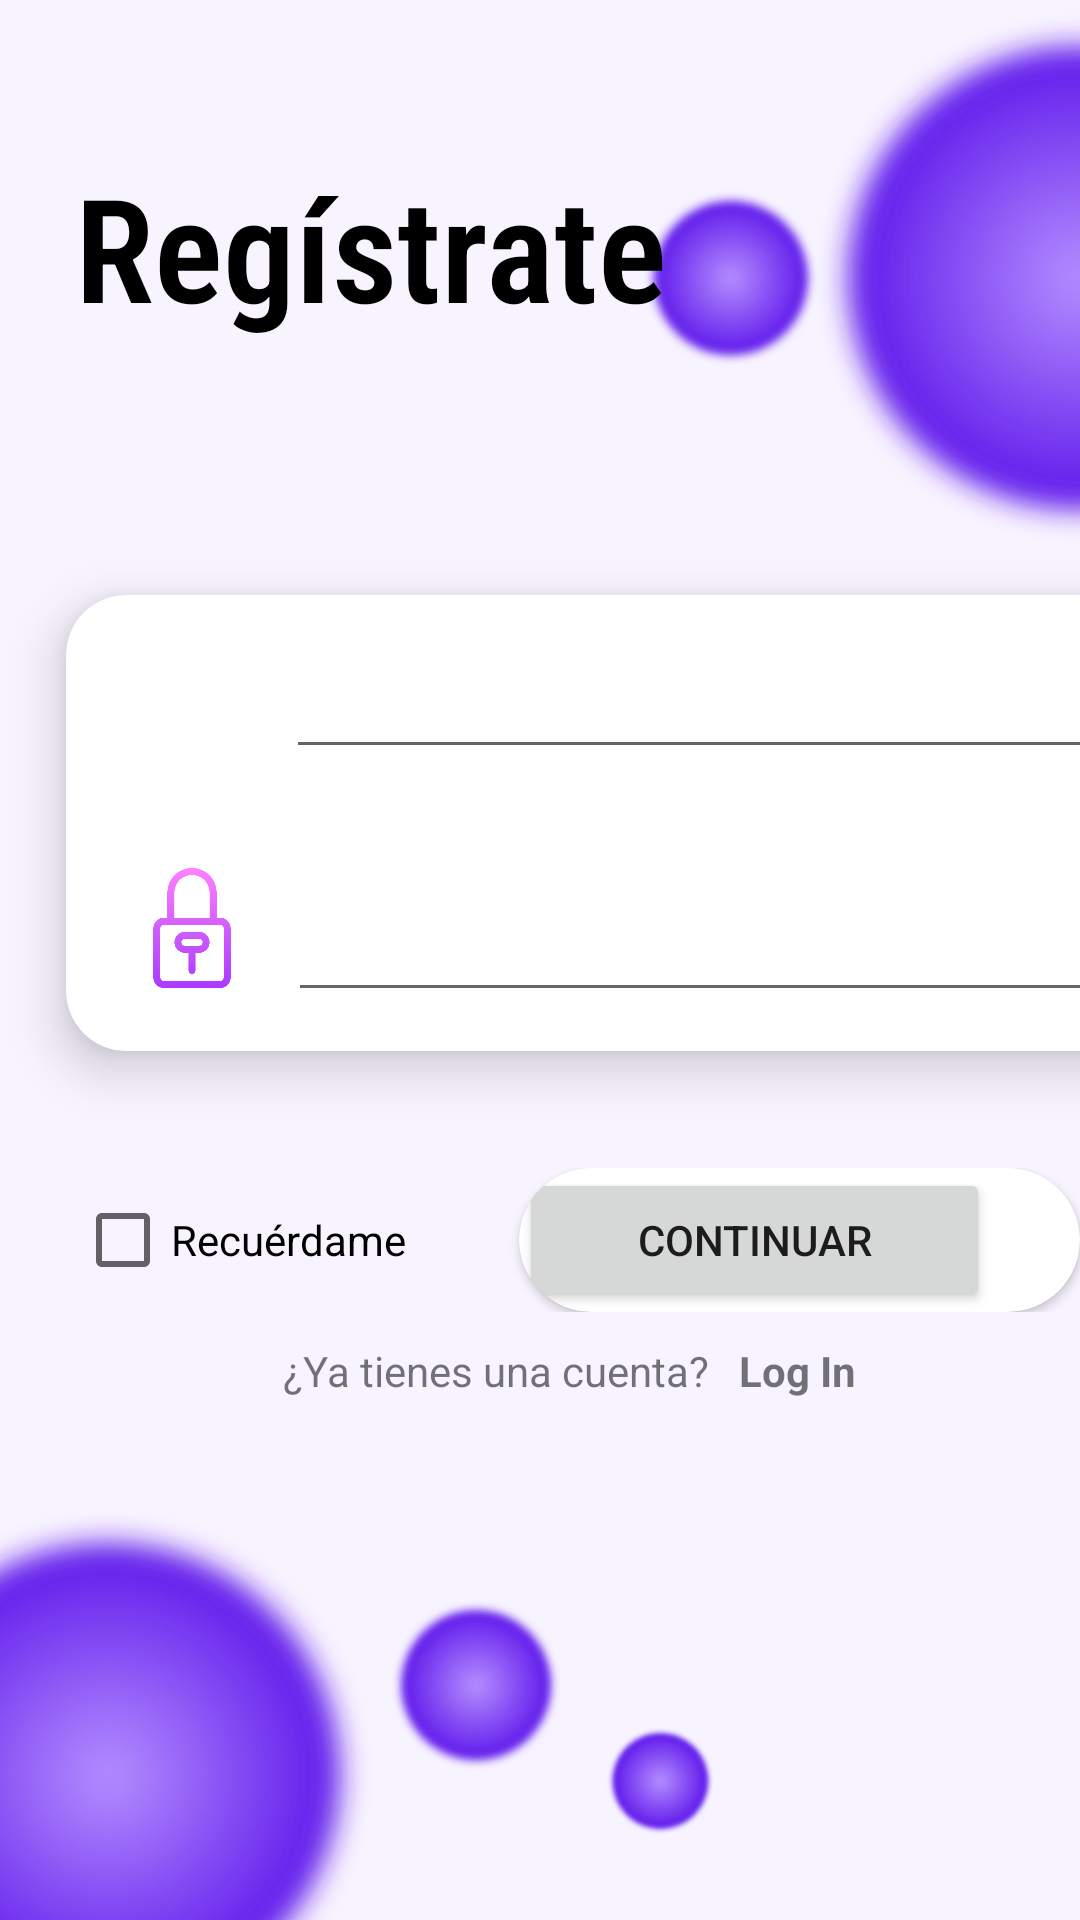

Icons on this 1080w x 1920h Android screen, each with its box as [x1=x1, y1=y1, x2=x2, y2=y2]:
contrasena: [x1=153, y1=868, x2=231, y2=988]
